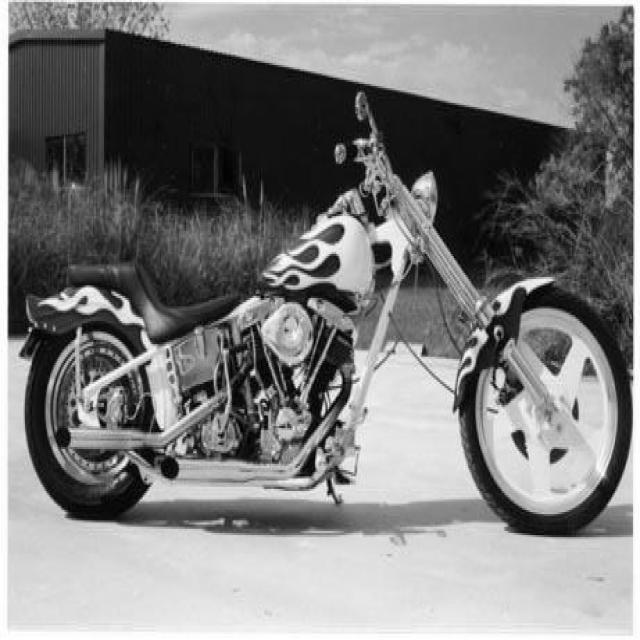Motorcycle: (19, 92, 632, 534)
